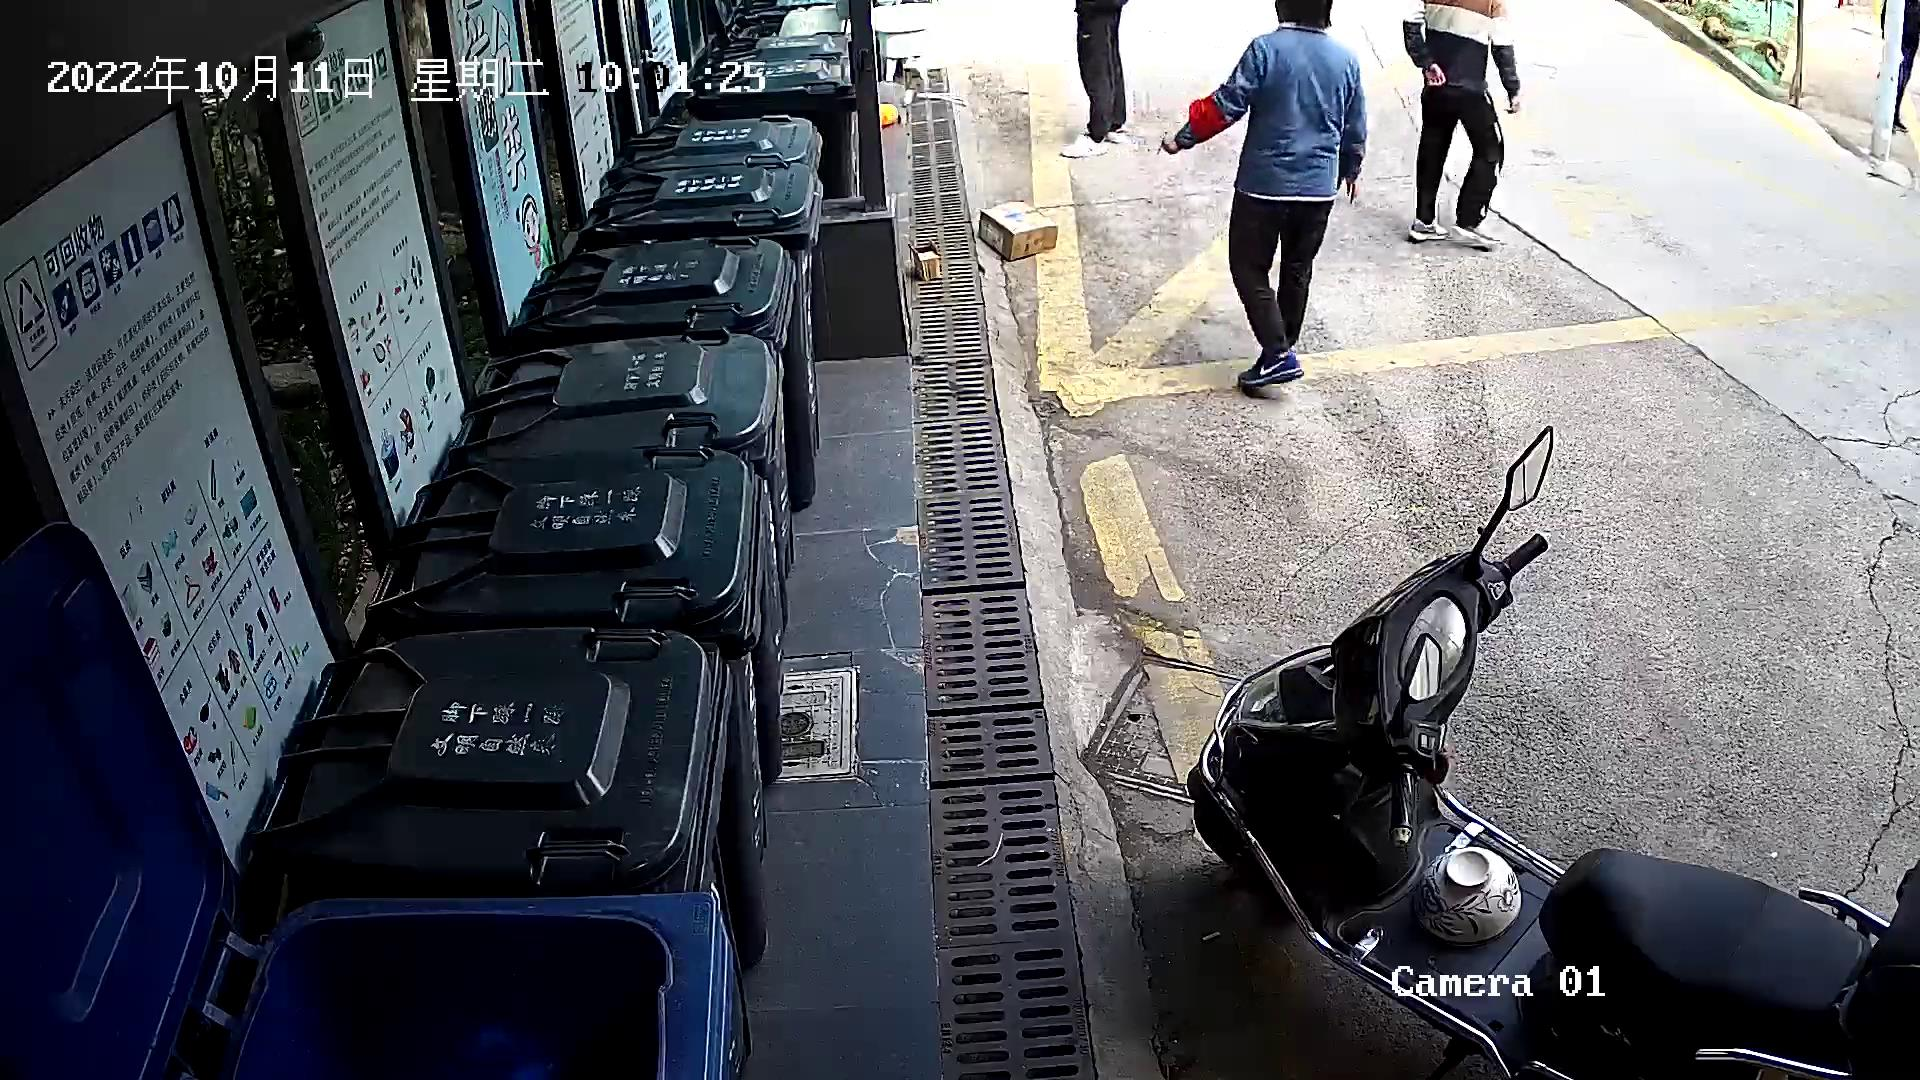worker: (1152, 1, 1378, 397)
zhizhipin: (972, 195, 1063, 262), (902, 236, 947, 286)
